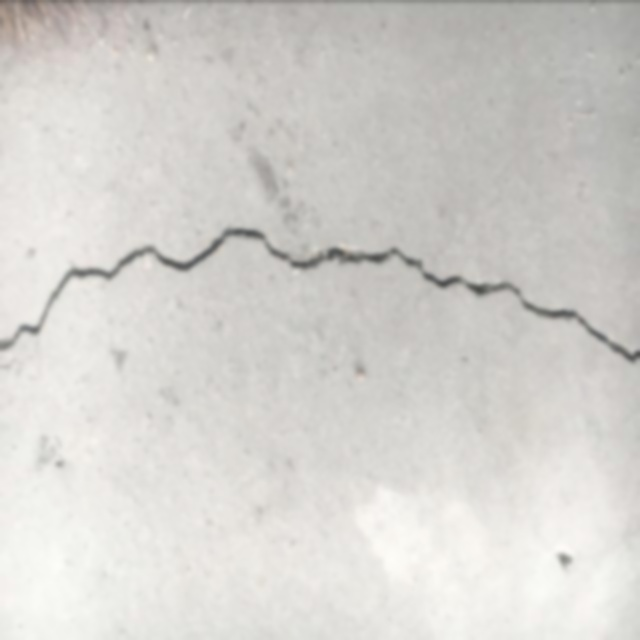SurfaceCrack: (1, 198, 640, 394)
